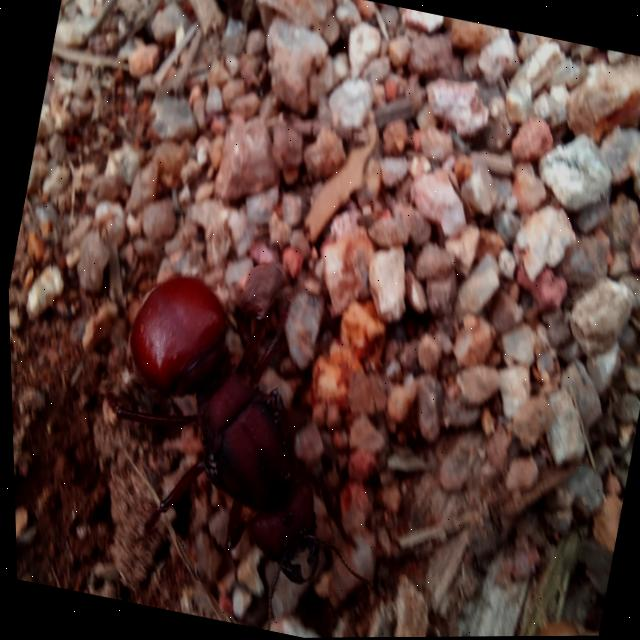Alive-Female-Dealate: (59, 260, 424, 640)
